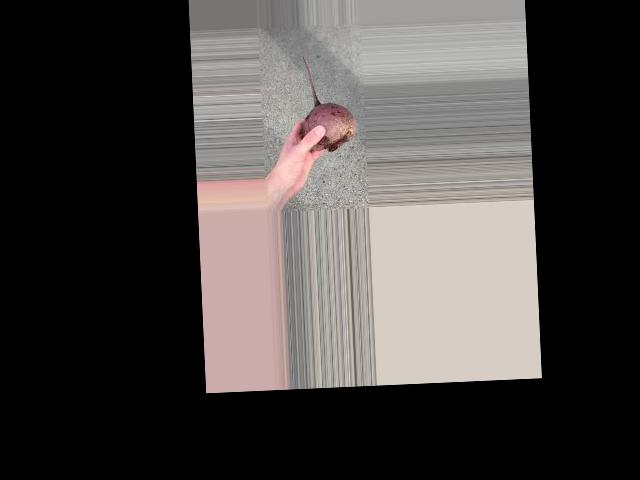beet: (300, 54, 357, 153)
